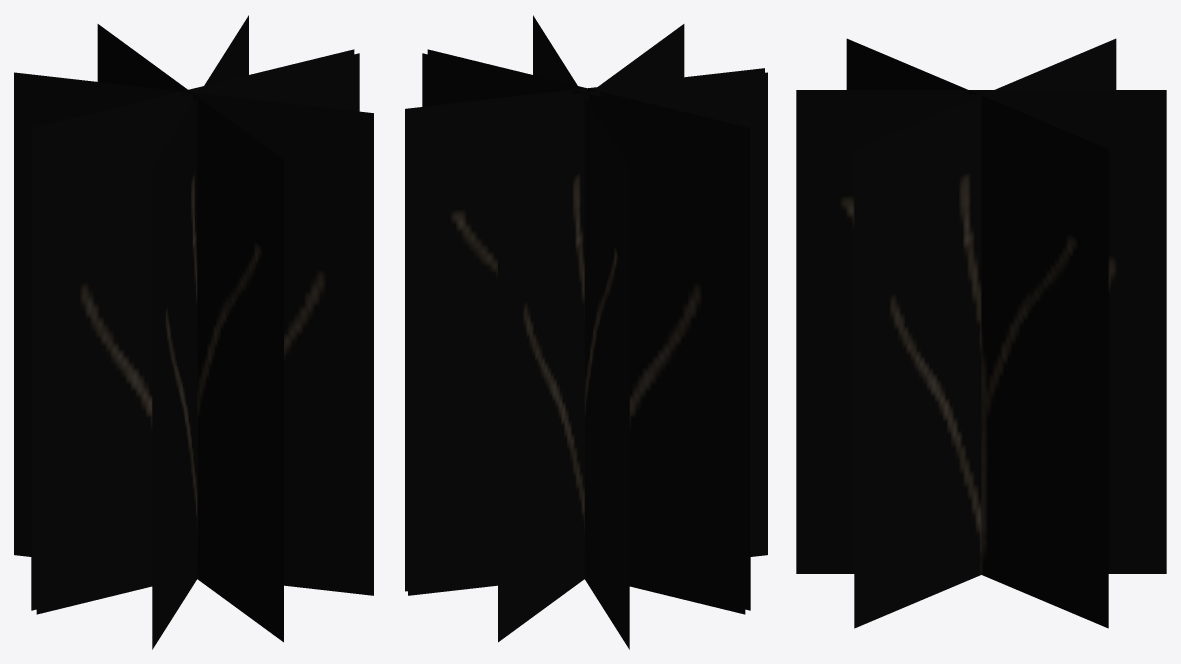
File: bush01_winter.gltf
The picture shows the model from 3 angles, left to right: view 1: azimuth 30°, elevation 25°; view 2: azimuth 150°, elevation 25°; view 3: azimuth 270°, elevation 25°; orthographic projection.
Visible parts, largest first — view 1: bush1_winter; view 2: bush1_winter; view 3: bush1_winter.
Part boxes in pixels (bbox=[...]): bush1_winter: bbox=[14, 15, 373, 649]; bush1_winter: bbox=[405, 15, 767, 649]; bush1_winter: bbox=[796, 38, 1166, 628].
Bounding box in the file's own units: 0.7 × 1 × 0.7.
1 material, 1 textured.
